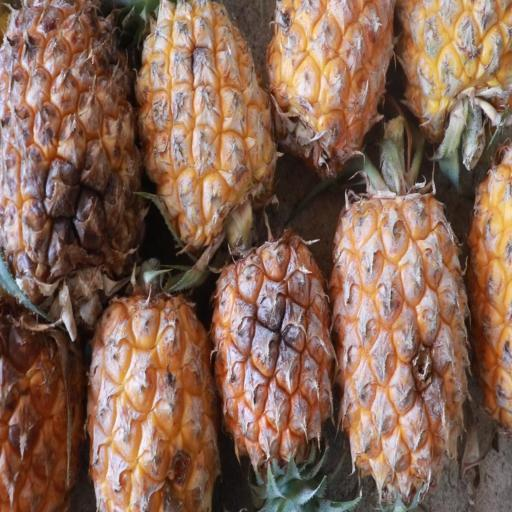Pineapple - v8 v1: (0, 0, 150, 304), (334, 185, 476, 504), (132, 0, 276, 246), (89, 275, 223, 512), (208, 233, 336, 471), (264, 0, 398, 172), (0, 293, 92, 512), (398, 1, 512, 167)
